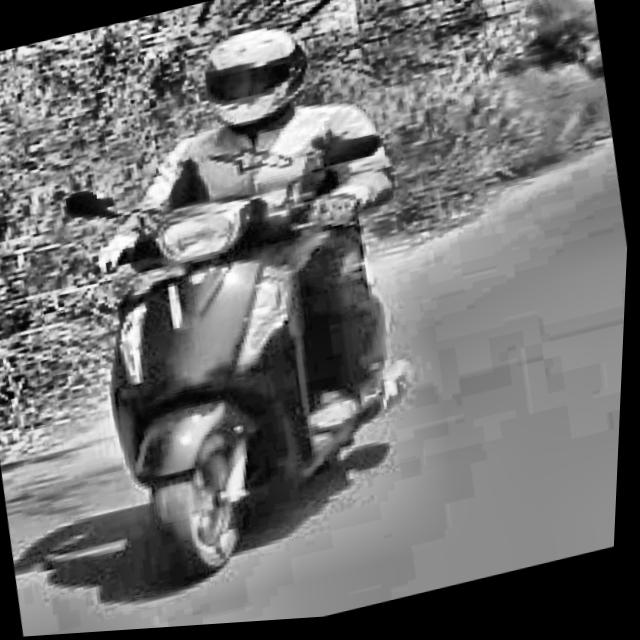motorcycle: (44, 98, 490, 603)
